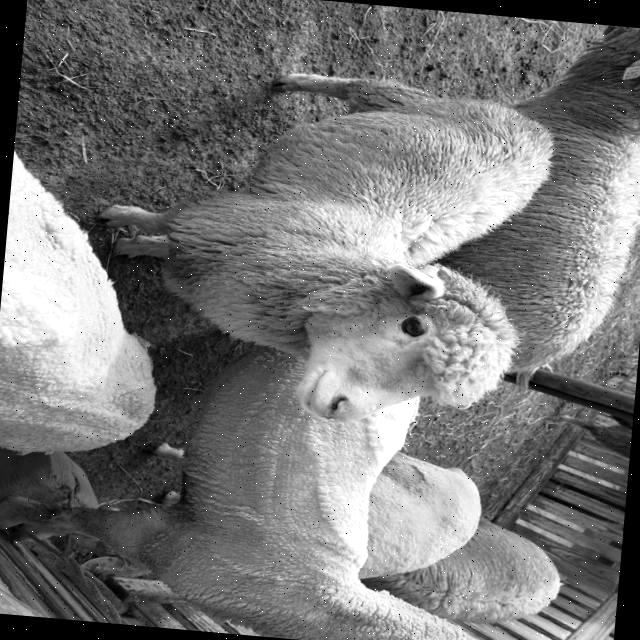sheep: (110, 72, 542, 421), (50, 359, 484, 640), (436, 25, 640, 385), (363, 516, 564, 624), (358, 450, 481, 579), (561, 415, 632, 454)
